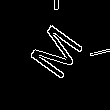M_NW: (14, 10, 80, 77)
